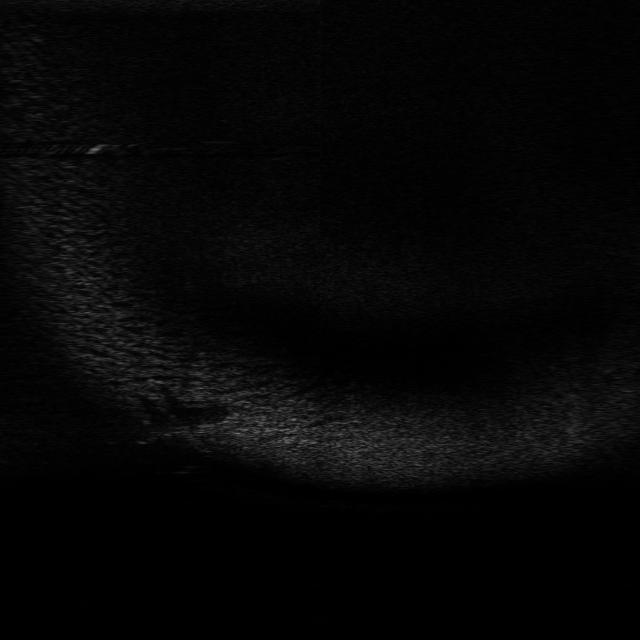plane: (133, 415, 219, 454)
